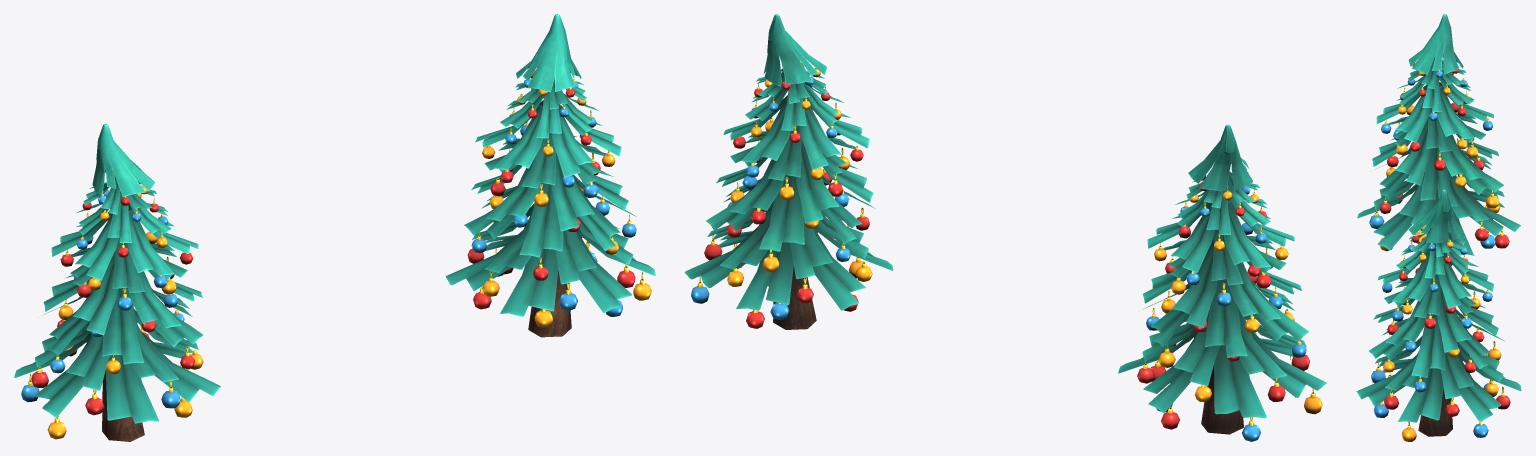
Rendered from obj_tree.gltf.
The picture shows the model from 3 angles, left to right: view 1: azimuth 30°, elevation 25°; view 2: azimuth 150°, elevation 25°; view 3: azimuth 270°, elevation 25°; orthographic projection. The views are drawn at different scales.
Parts seen in each view (by area): view 1: obj_tree; view 2: obj_tree; view 3: obj_tree.
Boxes of the visible parts, box(x1,y1,x2,y2) form: obj_tree: box(14, 14, 655, 441); obj_tree: box(684, 14, 1326, 441); obj_tree: box(1356, 14, 1521, 441).
Size of what is drawn, in the model's own units: 15.72 by 7.68 by 4.69.
1 material, 1 textured.
